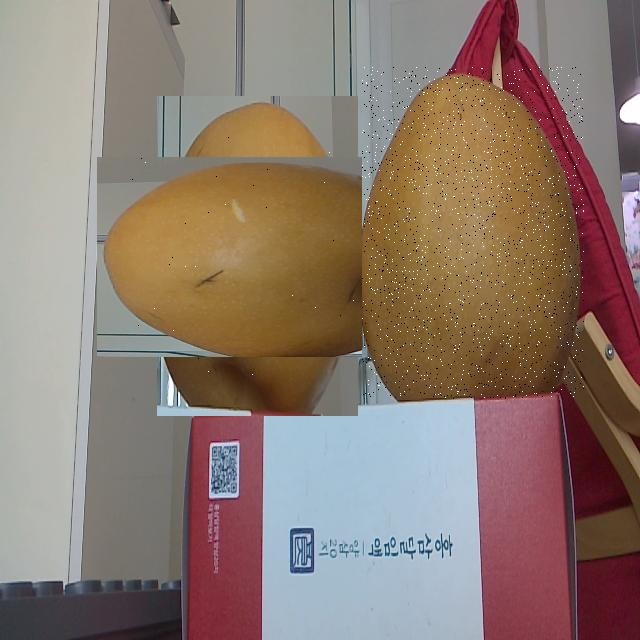pear: (362, 67, 584, 399), (127, 126, 388, 387)
